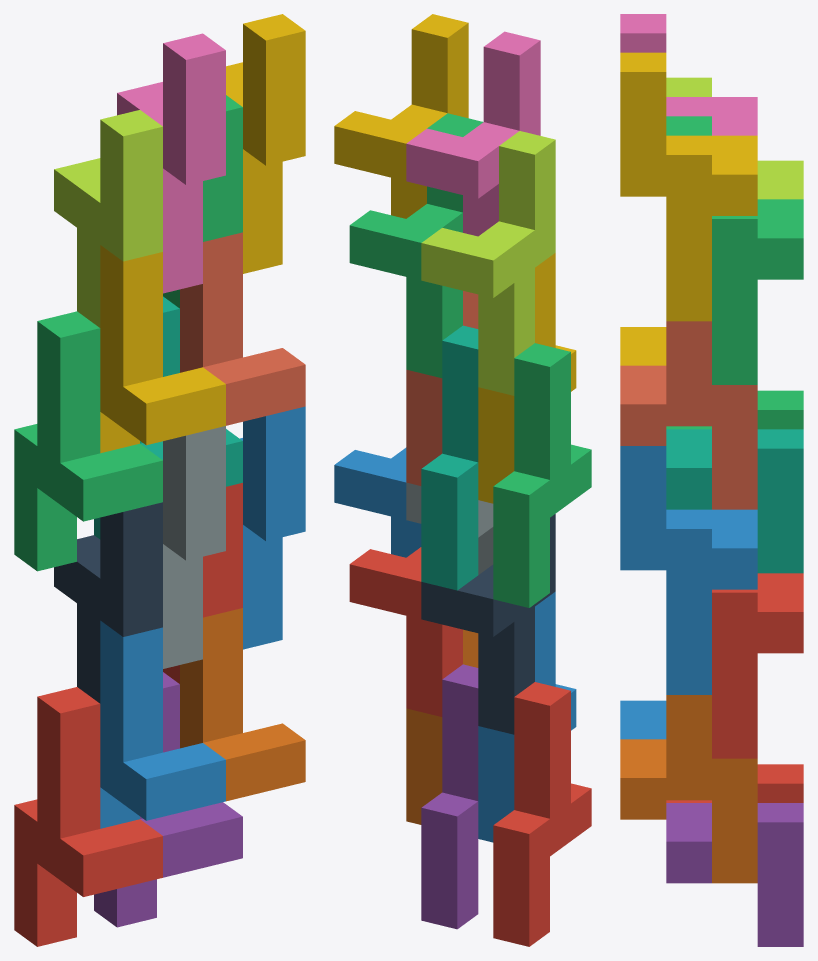
Rendered from tiling.obj.
The picture shows the model from 3 angles, left to right: view 1: azimuth 30°, elevation 25°; view 2: azimuth 150°, elevation 25°; view 3: azimuth 270°, elevation 25°; orthographic projection. The views are drawn at different scales.
Parts seen in each view (by area): view 1: copy_1_domain_3, copy_1_domain_1, copy_1_domain_2, copy_1_domain_4, copy_2_domain_4, copy_2_domain_8, copy_2_domain_3, copy_1_domain_6, copy_1_domain_8, copy_2_domain_1, copy_2_domain_6, copy_2_domain_2 (+4 smaller); view 2: copy_2_domain_3, copy_1_domain_1, copy_1_domain_3, copy_2_domain_4, copy_1_domain_5, copy_1_domain_7, copy_2_domain_8, copy_2_domain_7, copy_2_domain_1, copy_2_domain_5, copy_1_domain_2, copy_1_domain_4 (+4 smaller); view 3: copy_2_domain_8, copy_2_domain_6, copy_1_domain_6, copy_1_domain_8, copy_2_domain_7, copy_2_domain_5, copy_1_domain_7, copy_1_domain_5, copy_2_domain_4, copy_2_domain_3, copy_1_domain_3, copy_1_domain_1 (+2 smaller).
Boxes of the visible parts, x1=… form: copy_1_domain_3: x1=14, y1=311, x2=162, y2=571; copy_1_domain_1: x1=14, y1=687, x2=162, y2=946; copy_1_domain_2: x1=100, y1=620, x2=225, y2=828; copy_1_domain_4: x1=100, y1=245, x2=225, y2=453; copy_2_domain_4: x1=117, y1=33, x2=225, y2=293; copy_2_domain_8: x1=226, y1=14, x2=305, y2=273; copy_2_domain_3: x1=54, y1=110, x2=162, y2=327; copy_1_domain_6: x1=180, y1=608, x2=305, y2=801; copy_1_domain_8: x1=180, y1=232, x2=305, y2=425; copy_2_domain_1: x1=54, y1=502, x2=162, y2=703; copy_2_domain_6: x1=240, y1=406, x2=305, y2=649; copy_2_domain_2: x1=163, y1=426, x2=225, y2=668; copy_2_domain_3: x1=421, y1=131, x2=555, y2=395; copy_1_domain_1: x1=493, y1=682, x2=591, y2=946; copy_1_domain_3: x1=493, y1=343, x2=591, y2=607; copy_2_domain_4: x1=406, y1=31, x2=540, y2=236; copy_1_domain_5: x1=421, y1=664, x2=478, y2=929; copy_1_domain_7: x1=421, y1=325, x2=478, y2=590; copy_2_domain_8: x1=334, y1=14, x2=468, y2=218; copy_2_domain_7: x1=349, y1=113, x2=483, y2=378; copy_2_domain_1: x1=421, y1=514, x2=555, y2=734; copy_2_domain_5: x1=349, y1=547, x2=462, y2=716; copy_1_domain_2: x1=478, y1=591, x2=576, y2=842; copy_1_domain_4: x1=478, y1=253, x2=576, y2=503; copy_2_domain_8: x1=620, y1=52, x2=757, y2=321; copy_2_domain_6: x1=620, y1=446, x2=757, y2=694; copy_1_domain_6: x1=620, y1=695, x2=757, y2=883; copy_1_domain_8: x1=620, y1=321, x2=757, y2=509; copy_2_domain_7: x1=666, y1=116, x2=803, y2=384; copy_2_domain_5: x1=712, y1=573, x2=803, y2=758; copy_1_domain_7: x1=666, y1=429, x2=803, y2=573; copy_1_domain_5: x1=666, y1=803, x2=803, y2=946; copy_2_domain_4: x1=620, y1=14, x2=757, y2=135; copy_2_domain_3: x1=666, y1=77, x2=803, y2=199; copy_1_domain_3: x1=666, y1=390, x2=803, y2=429; copy_1_domain_1: x1=666, y1=764, x2=803, y2=802.
Size of the model in its own units: 6 by 22 by 4.
